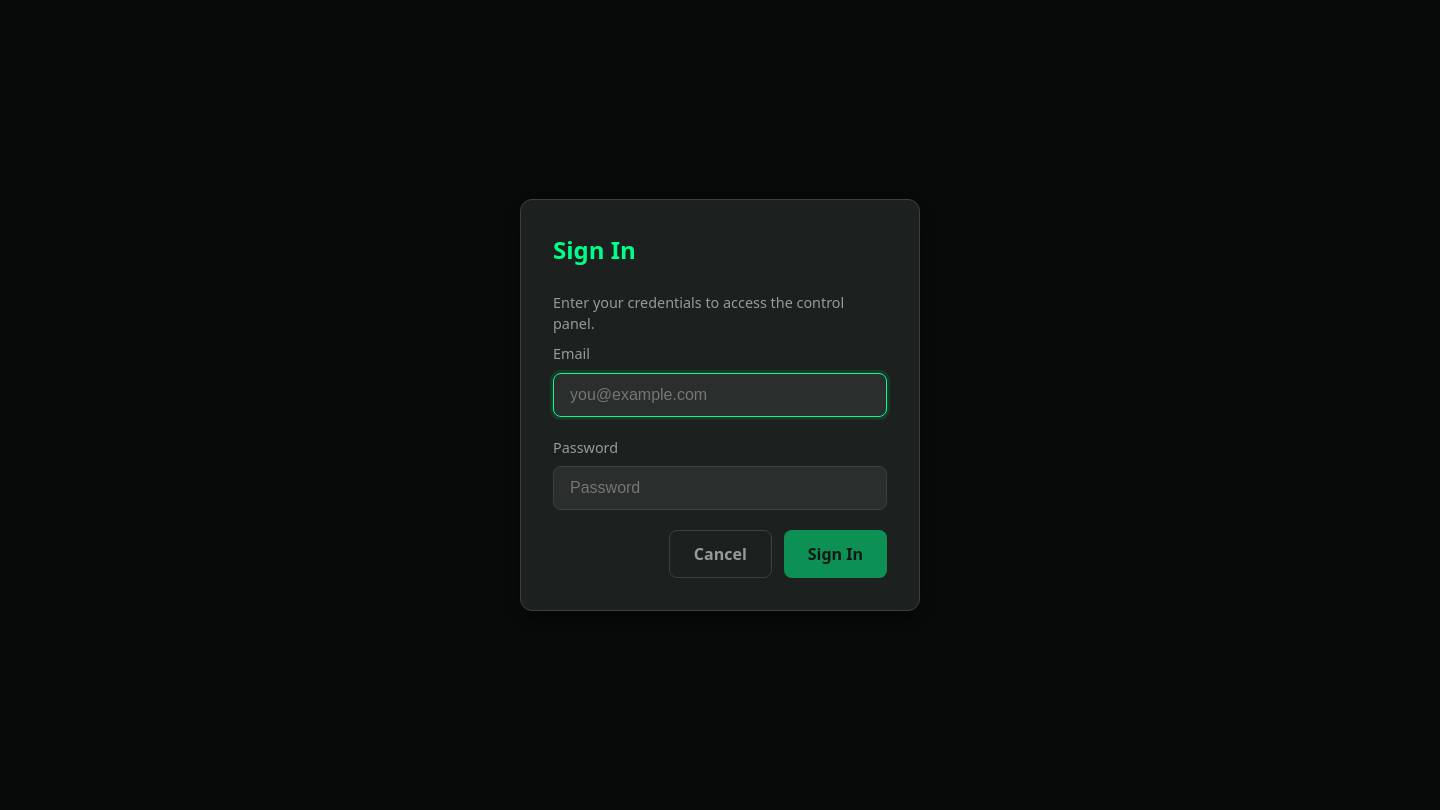
LoginDialog › submit button enabled when both email and password are valid
The width and height of the screenshot is (1440, 810).
In the field labelled "Email": (720,395) [553, 373, 887, 417], type "operator@rideshare.com"
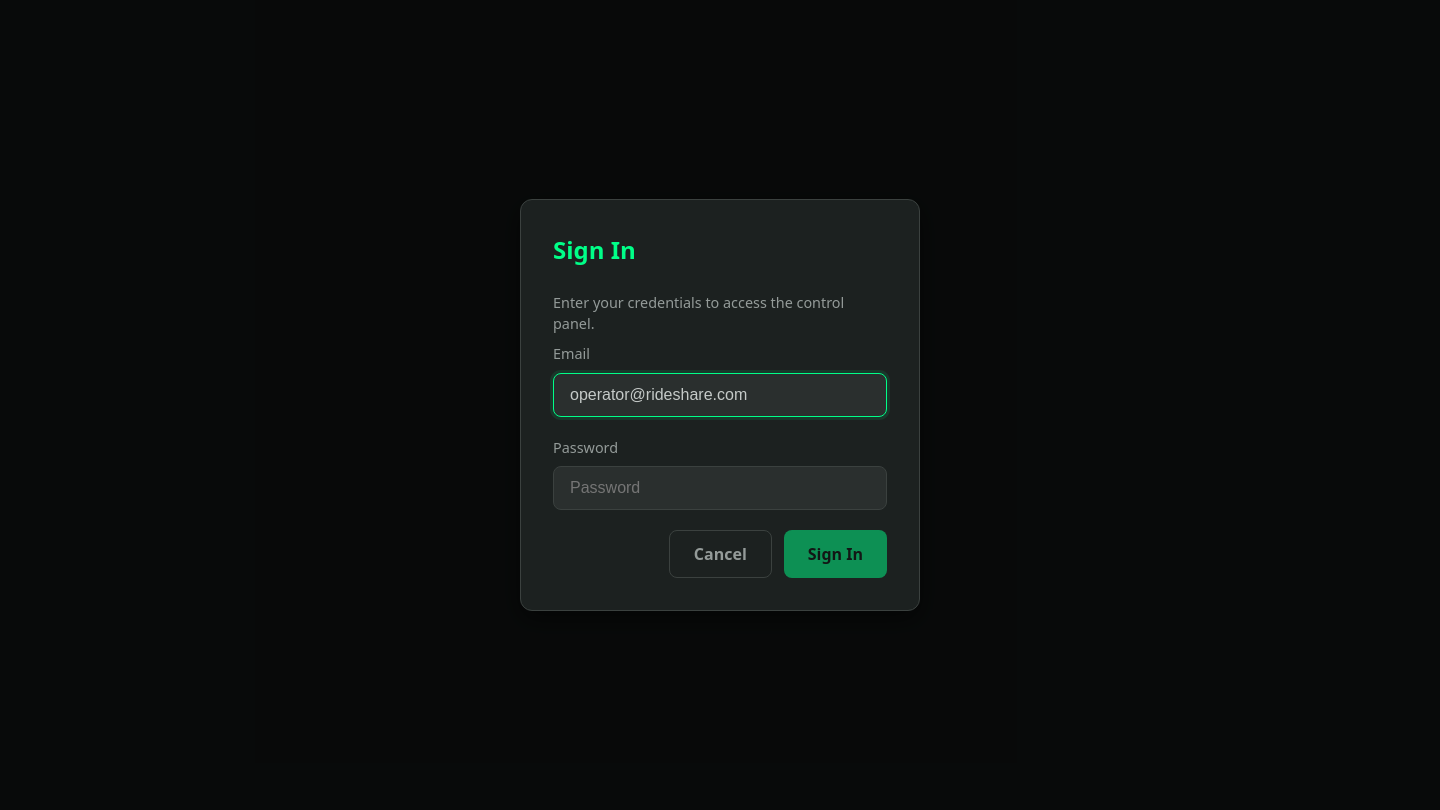
In the password field labelled "Password": (720,488) [553, 466, 887, 510], type "secret123"
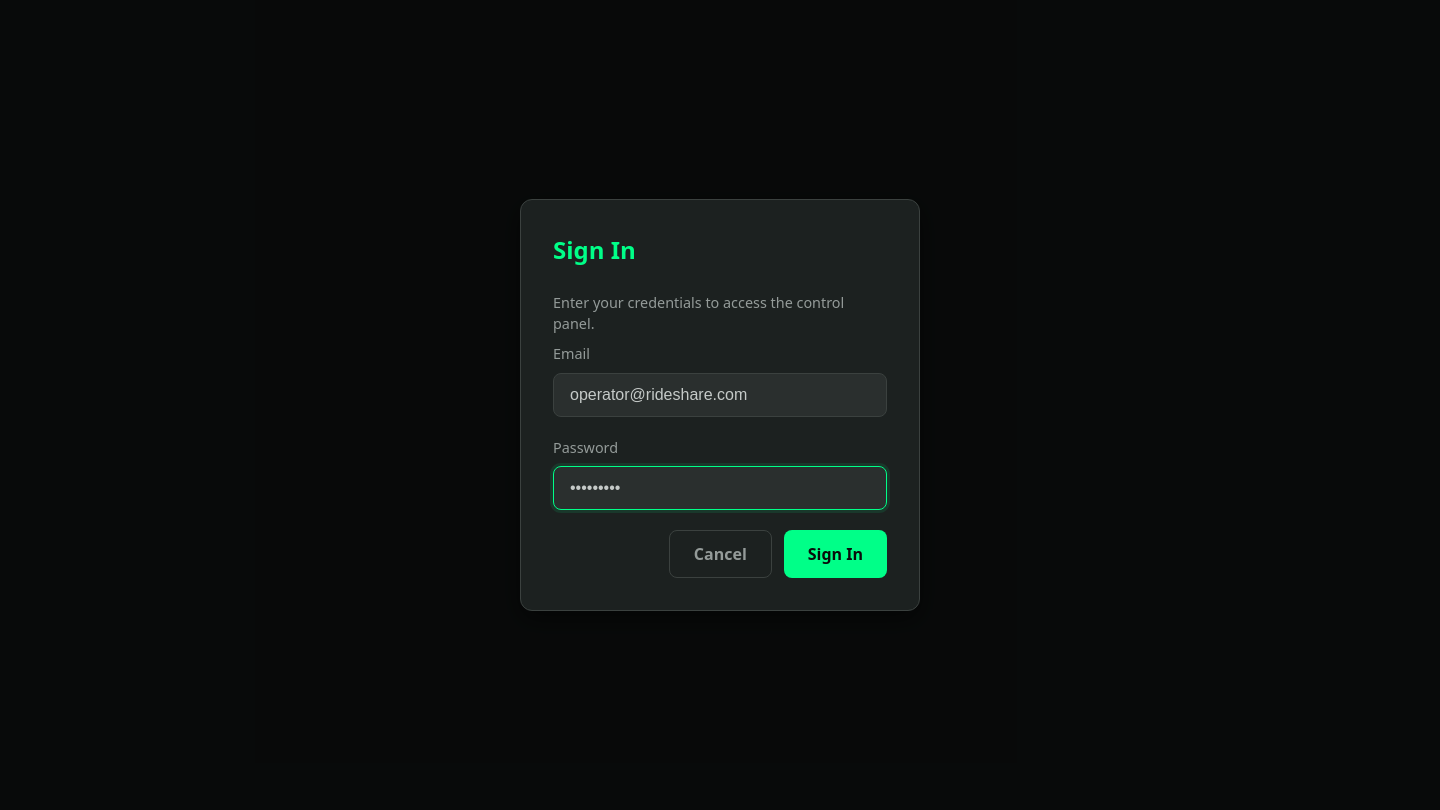
Expected: the button "Sign In" is enabled, [784, 530, 887, 578]
